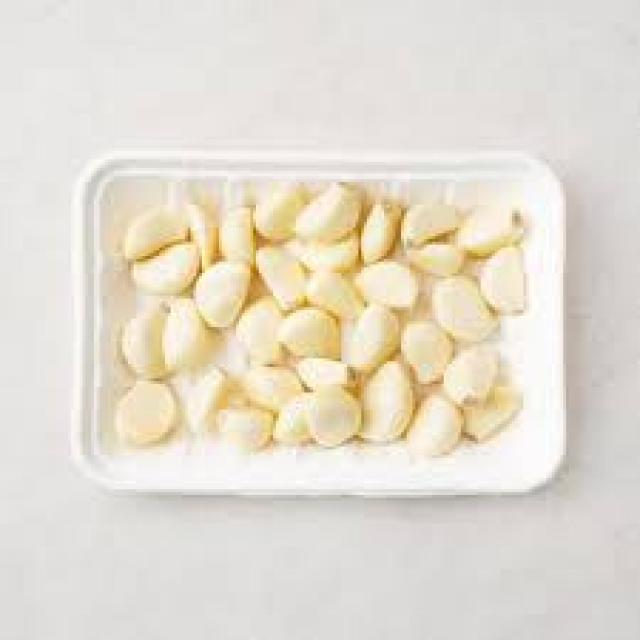garlic: (228, 236, 412, 418)
